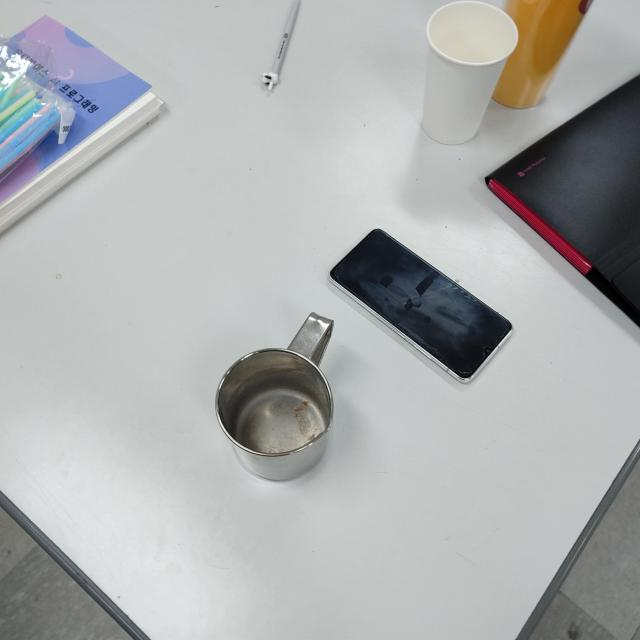cup: (213, 312, 336, 486)
phone: (326, 226, 514, 385)
